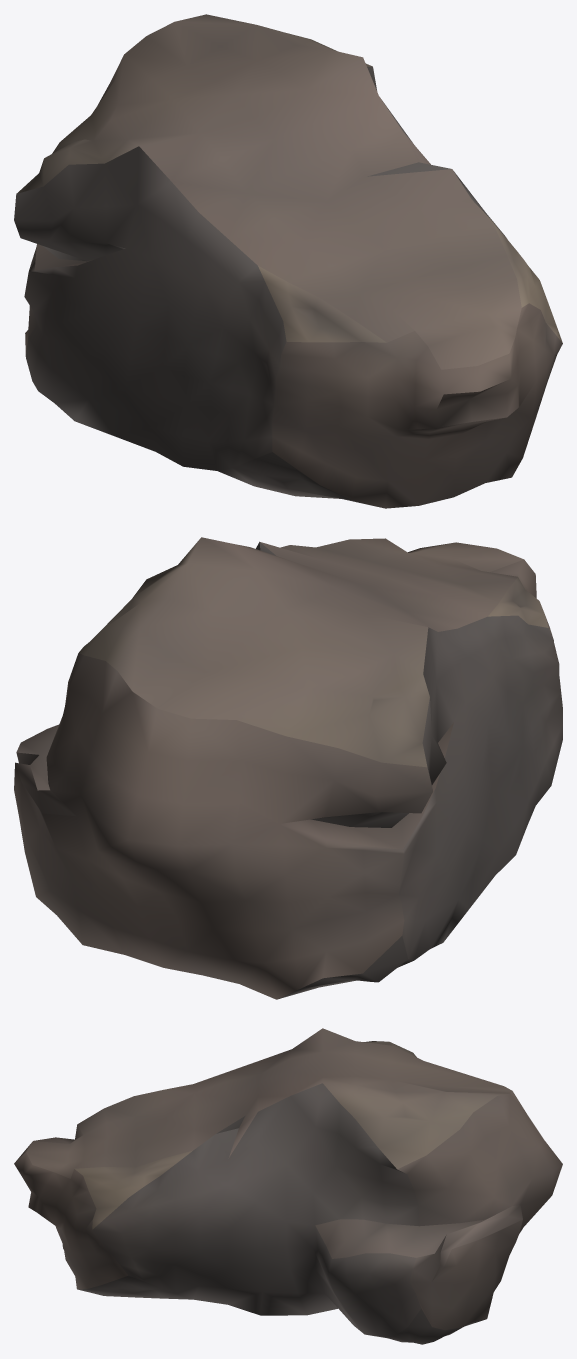
3 renders of one model, top to bottom at view 1: azimuth 30°, elevation 25°; view 2: azimuth 150°, elevation 25°; view 3: azimuth 270°, elevation 25°, orthographic. The views are drawn at different scales.
Parts seen in each view (by area): view 1: RockHuge.006; view 2: RockHuge.006; view 3: RockHuge.006.
Part boxes in pixels (x1,y1,x2,y2): RockHuge.006: (14, 14, 562, 508); RockHuge.006: (14, 537, 562, 999); RockHuge.006: (14, 1028, 562, 1344).
Size of the model in its own units: 0.3133 by 0.246 by 0.5.
